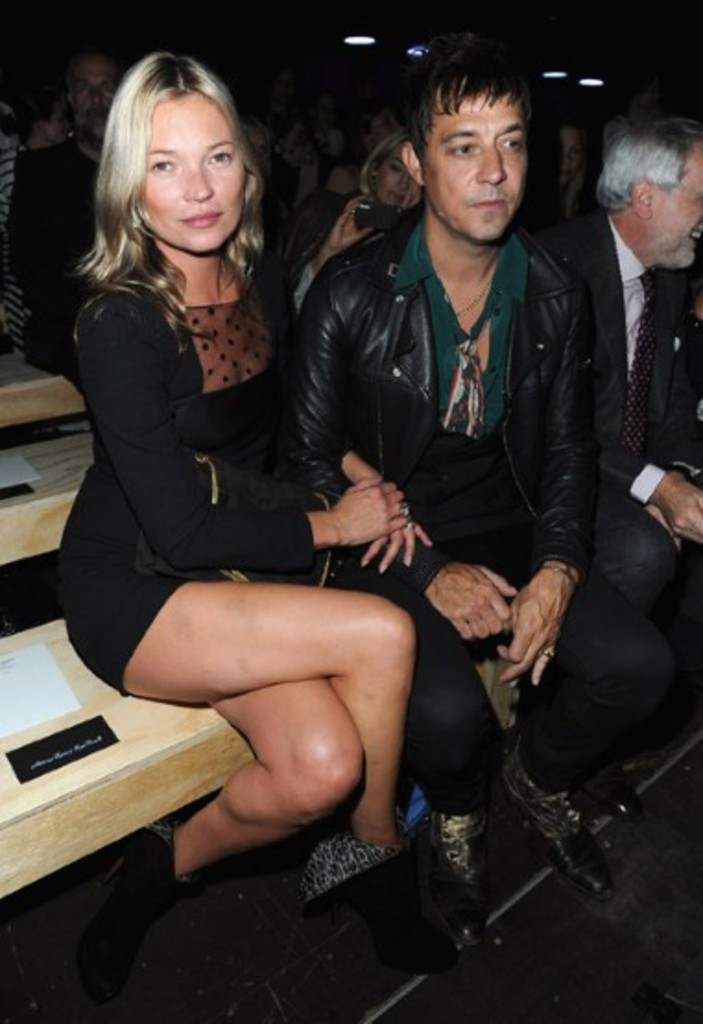Footwear: (299, 808, 459, 972), (74, 812, 196, 1002), (517, 762, 638, 941), (423, 801, 498, 943)
